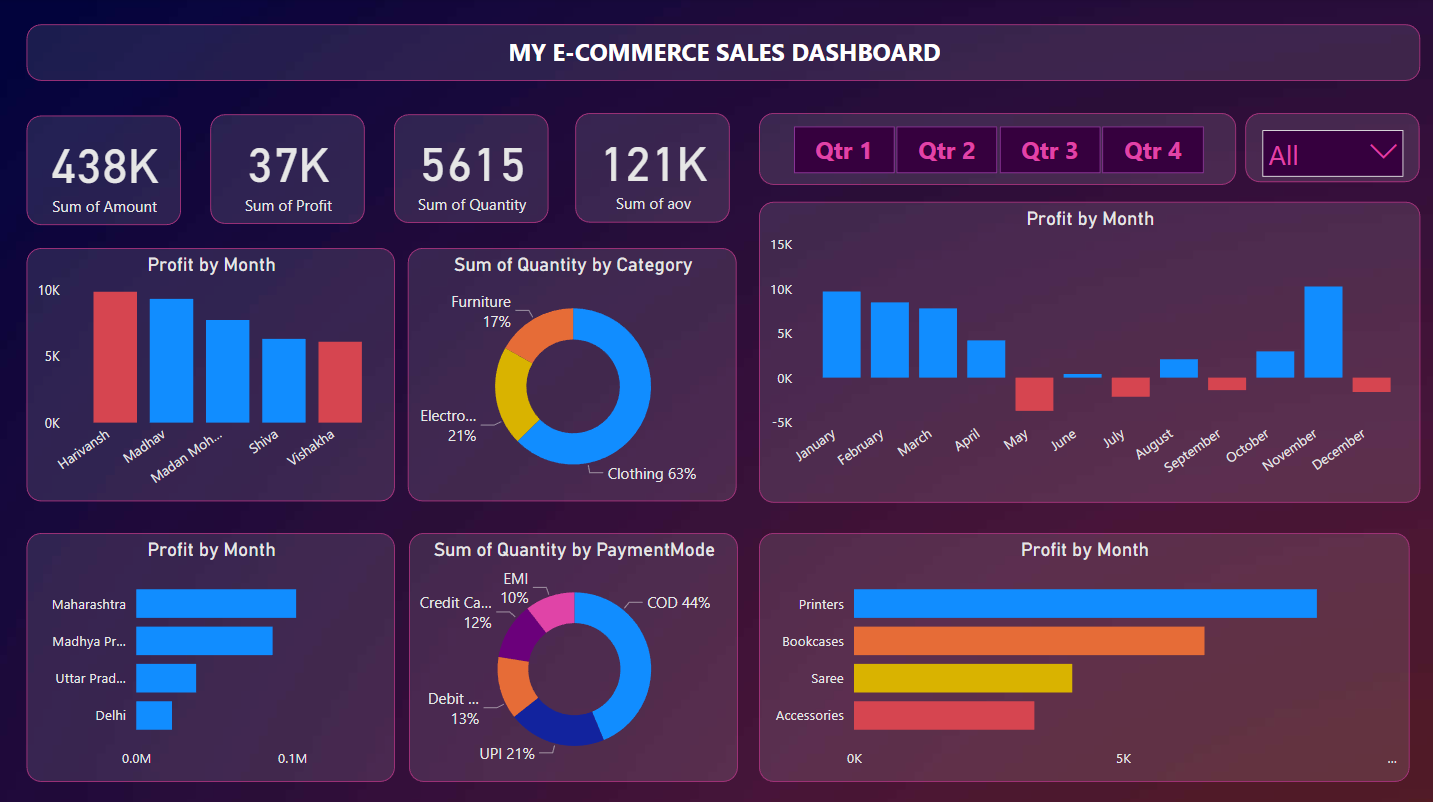

The page's visual inventory and layout, read from the dashboard file:
{"tool":"powerbi","page":{"name":"Page 1","canvas":[1280,720],"ordinal":0},"visuals":[{"type":"textbox","box":[24.1,22.9,1241,50.7],"z":0},{"type":"columnChart","title":"Profit by Month","fields":{"Y":["Details.Profit"],"Category":["Orders.Order Date.Variation.Date Hierarchy.Month"]},"box":[676.6,180.9,588.5,267.7],"z":1000},{"type":"barChart","title":"Profit by Month","fields":{"Category":["Details.Sub-Category"],"Y":["Details.Profit"]},"box":[676.6,476.3,588.7,221.5],"z":2000},{"type":"donutChart","fields":{"Category":["Details.Category"],"Y":["Details.Quantity"]},"box":[364.2,223.1,293.1,225.5],"z":3000},{"type":"donutChart","fields":{"Category":["Details.PaymentMode"],"Y":["Details.Quantity"]},"box":[365.4,476.4,293.1,221.9],"z":4000},{"type":"card","fields":{"Values":["Details.Amount"]},"box":[24.1,104.9,137.5,97.7],"z":5000},{"type":"card","fields":{"Values":["Details.Profit"]},"box":[188.1,103.7,137.5,97.7],"z":6000},{"type":"card","fields":{"Values":["Details.Quantity"]},"box":[352.2,103.7,137.5,96.5],"z":7000},{"type":"card","fields":{"Values":["Details.aov"]},"box":[512.6,102.5,137.5,97.7],"z":8000},{"type":"barChart","title":"Profit by Month","fields":{"Y":["Details.Amount"],"Category":["Orders.State"]},"box":[24.1,476.4,328,221.9],"z":9000},{"type":"clusteredColumnChart","title":"Profit by Month","fields":{"Category":["Orders.CustomerName"],"Y":["Details.Amount"]},"box":[24.1,223.1,328,225.5],"z":10000},{"type":"slicer","fields":{"Values":["Orders.Order Date.Variation.Date Hierarchy.Quarter"]},"box":[676.6,102.4,408.4,64.5],"z":11000},{"type":"slicer","fields":{"Values":["Orders.State"]},"box":[1109.5,102.5,155.6,61.5],"z":12000}]}

Visuals, with their boxes in screenshot pixels (x1, y1, x2, y2), scaled from the page's 1280x720 canvas onto the 1433x802 screenshot:
textbox: {"x1": 27, "y1": 26, "x2": 1416, "y2": 82}
"Profit by Month" columnChart: {"x1": 757, "y1": 202, "x2": 1416, "y2": 500}
"Profit by Month" barChart: {"x1": 757, "y1": 531, "x2": 1417, "y2": 777}
donutChart - Details.Category x Details.Quantity: {"x1": 408, "y1": 249, "x2": 736, "y2": 500}
donutChart - Details.PaymentMode x Details.Quantity: {"x1": 409, "y1": 531, "x2": 737, "y2": 778}
card - Details.Amount: {"x1": 27, "y1": 117, "x2": 181, "y2": 226}
card - Details.Profit: {"x1": 211, "y1": 116, "x2": 365, "y2": 224}
card - Details.Quantity: {"x1": 394, "y1": 116, "x2": 548, "y2": 223}
card - Details.aov: {"x1": 574, "y1": 114, "x2": 728, "y2": 223}
"Profit by Month" barChart: {"x1": 27, "y1": 531, "x2": 394, "y2": 778}
"Profit by Month" clusteredColumnChart: {"x1": 27, "y1": 249, "x2": 394, "y2": 500}
slicer - Orders.Order Date.Variation.Date Hierarchy.Quarter: {"x1": 757, "y1": 114, "x2": 1215, "y2": 186}
slicer - Orders.State: {"x1": 1242, "y1": 114, "x2": 1416, "y2": 183}
